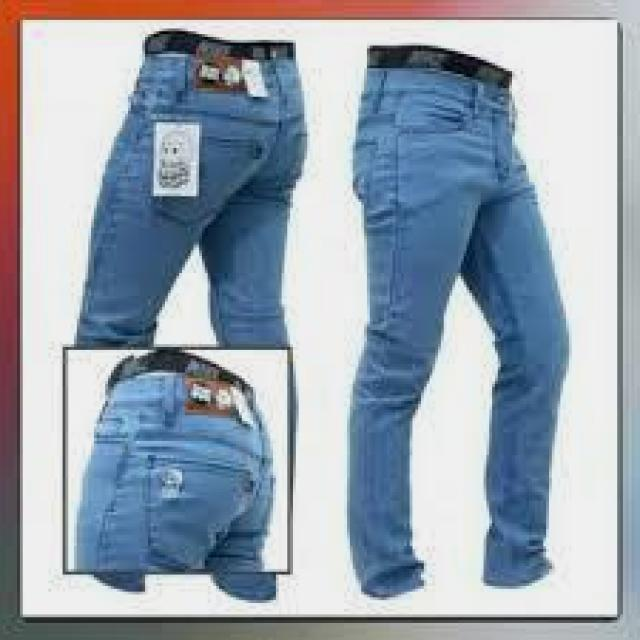pants: (344, 46, 574, 594), (77, 32, 301, 342), (69, 352, 288, 568)
